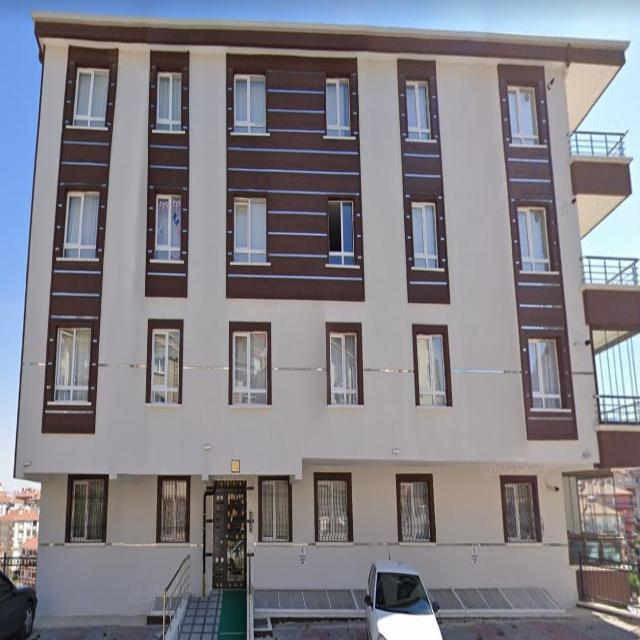Building: (14, 11, 640, 627)
